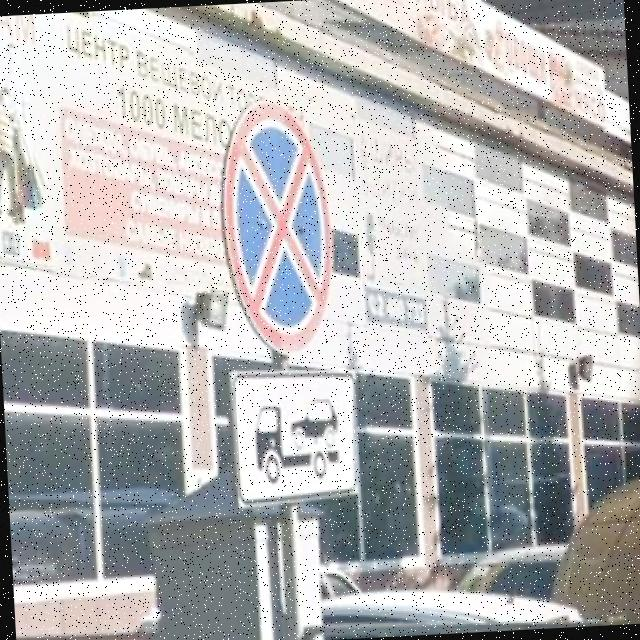Zakaz zatrzymywania sie: (214, 92, 343, 363)
